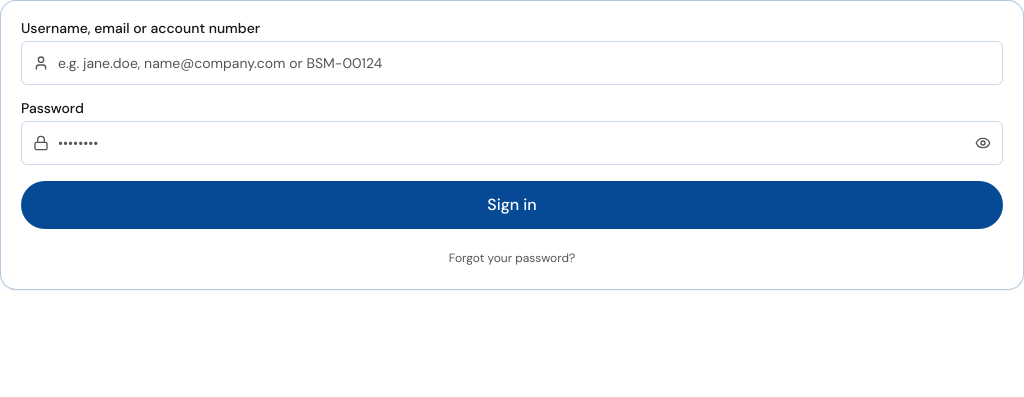
Test case: OTP verification screen › resend asks the server with the challenge and restarts the timers
Type "jane.doe" into the field labelled "Username, email or account number" at (512, 63), box top-left (21, 41), bottom-right (1003, 85)
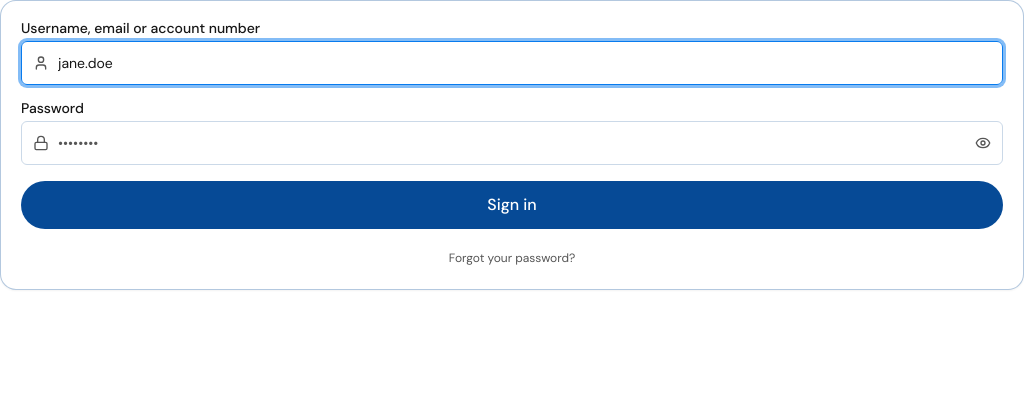
Type "secret-password" into the password field labelled "Password" at (512, 143), box top-left (21, 121), bottom-right (1003, 165)
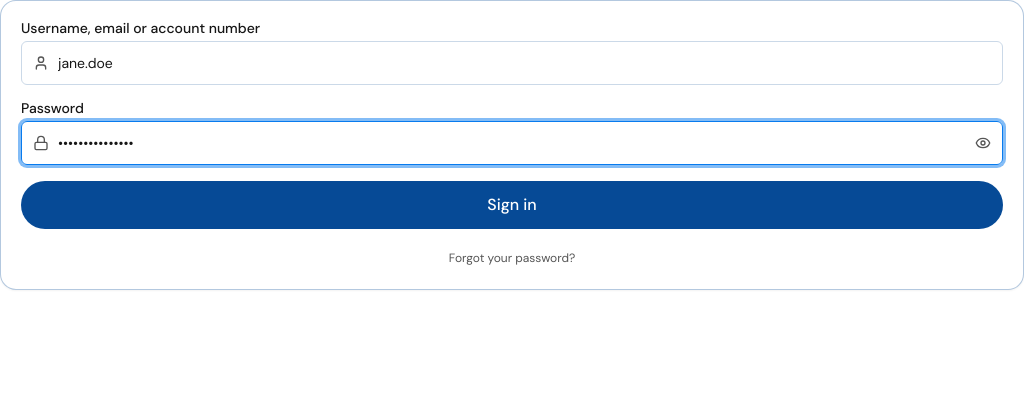
Click the button "Sign in" at (512, 205), box top-left (21, 181), bottom-right (1003, 229)
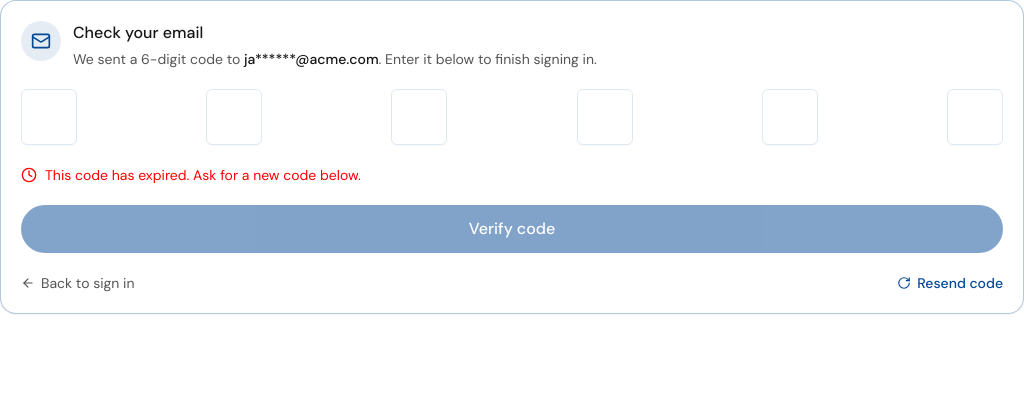
Now the field named "Digit 1 of 6" is shown, box top-left (21, 89), bottom-right (77, 145)
Click the button "Resend code" at (950, 283), box top-left (897, 273), bottom-right (1003, 293)
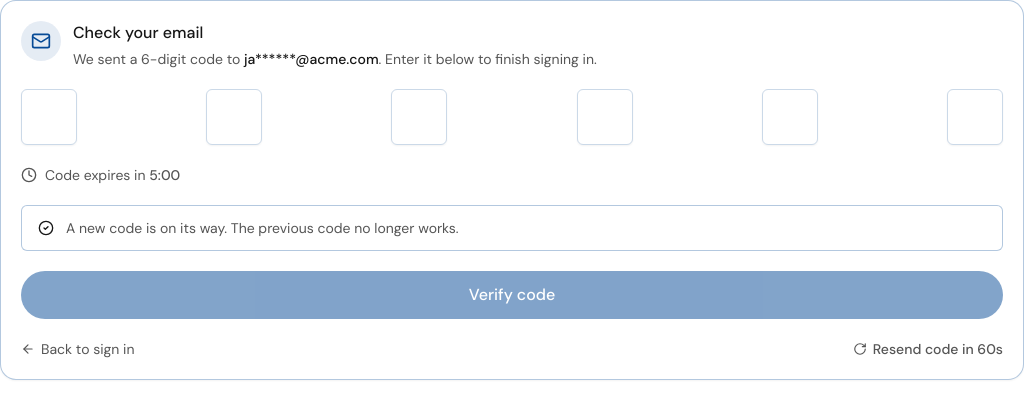
Now the field named "Digit 1 of 6" is enabled, box top-left (21, 89), bottom-right (77, 145)
Now the text "A new code is on its way. The previous code no longer works." is shown, box top-left (66, 219), bottom-right (459, 237)
Now the text "5:00" is shown, box top-left (149, 166), bottom-right (180, 184)
